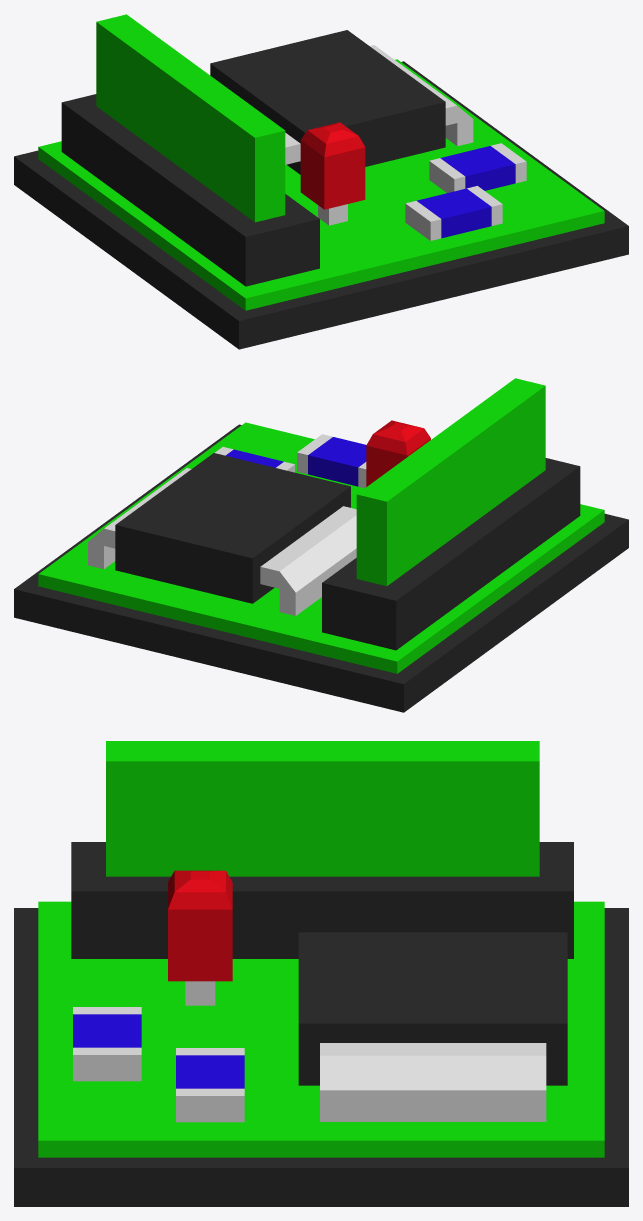
Rendered from af71f0cc-30db-4326-bfce-6aca8a1303ca.glb.
3 renders of one model, top to bottom at view 1: azimuth 30°, elevation 25°; view 2: azimuth 150°, elevation 25°; view 3: azimuth 270°, elevation 25°, orthographic. The views are drawn at different scales.
Visible parts, largest first — view 1: Cube.001; view 2: Cube.001; view 3: Cube.001.
Boxes of the visible parts, <box> form: Cube.001: <box>14,14,628,349</box>; Cube.001: <box>14,378,628,712</box>; Cube.001: <box>14,741,628,1206</box>.
Bounding box in the file's own units: 2 × 0.8574 × 2.
